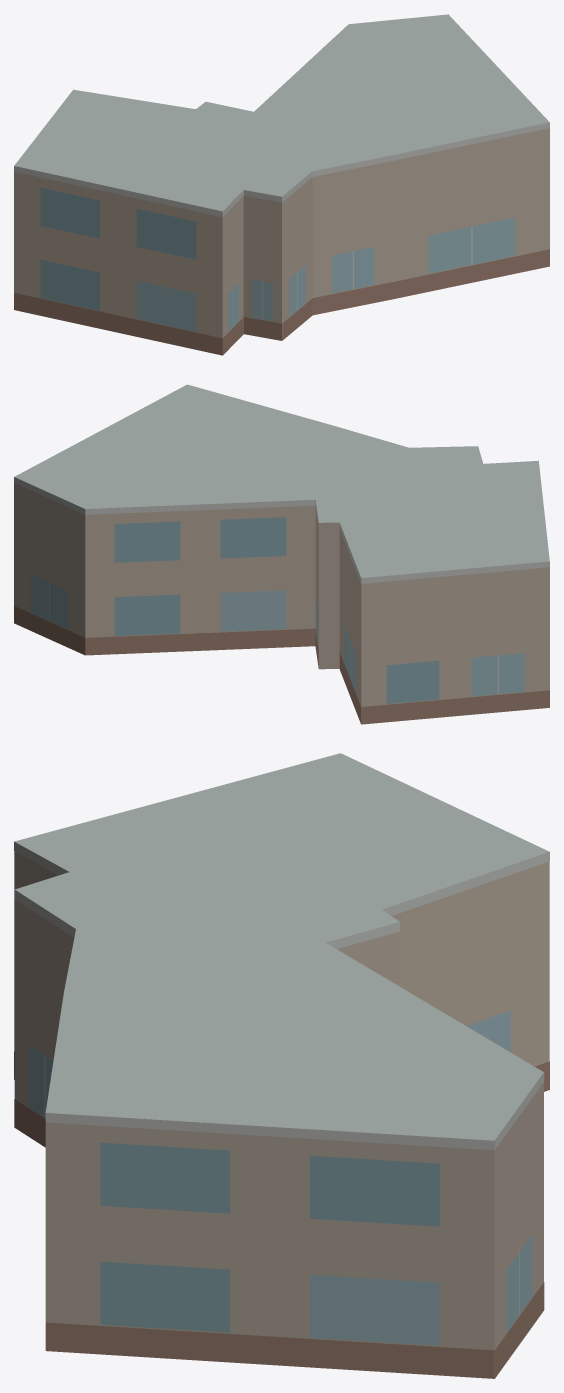
The model's file is survey-upis-32677485.glb.
3 views of the same model, one above another, from view 1: azimuth 30°, elevation 25°; view 2: azimuth 150°, elevation 25°; view 3: azimuth 270°, elevation 25° (orthographic). The views are drawn at different scales.
Visible parts, largest first — view 1: survey-upis-32677485.tmp; view 2: survey-upis-32677485.tmp; view 3: survey-upis-32677485.tmp.
Part boxes in pixels (x1,y1,x2,y2): survey-upis-32677485.tmp: (14,14,549,355); survey-upis-32677485.tmp: (14,384,549,724); survey-upis-32677485.tmp: (14,753,549,1378).
Bounding box in the file's own units: 21.31 × 6.1 × 12.45.
